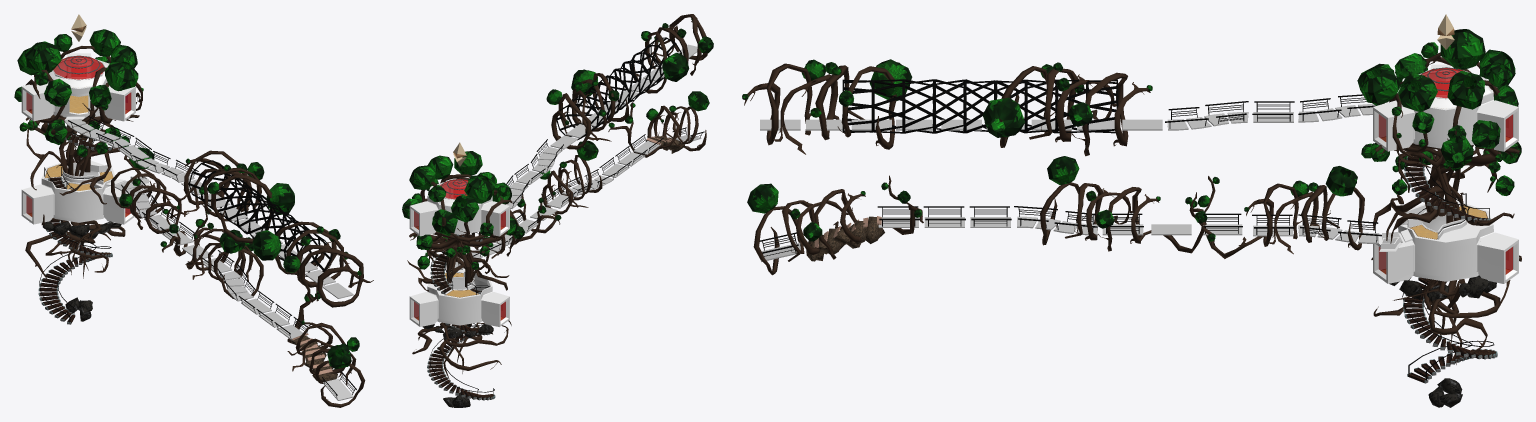
The model's file is BlockChain_Tower_Art.fbx.
3 renders of one model, left to right at view 1: azimuth 30°, elevation 25°; view 2: azimuth 150°, elevation 25°; view 3: azimuth 270°, elevation 25°, orthographic. The views are drawn at different scales.
Visible parts, largest first — view 1: BlockChain_Tower_Art; view 2: BlockChain_Tower_Art; view 3: BlockChain_Tower_Art.
Part boxes in pixels (<box>): BlockChain_Tower_Art: <box>14,14,373,407</box>; BlockChain_Tower_Art: <box>402,14,713,407</box>; BlockChain_Tower_Art: <box>742,14,1521,407</box>.
Bounding box in the file's own units: 1590 × 4492 × 8175.
